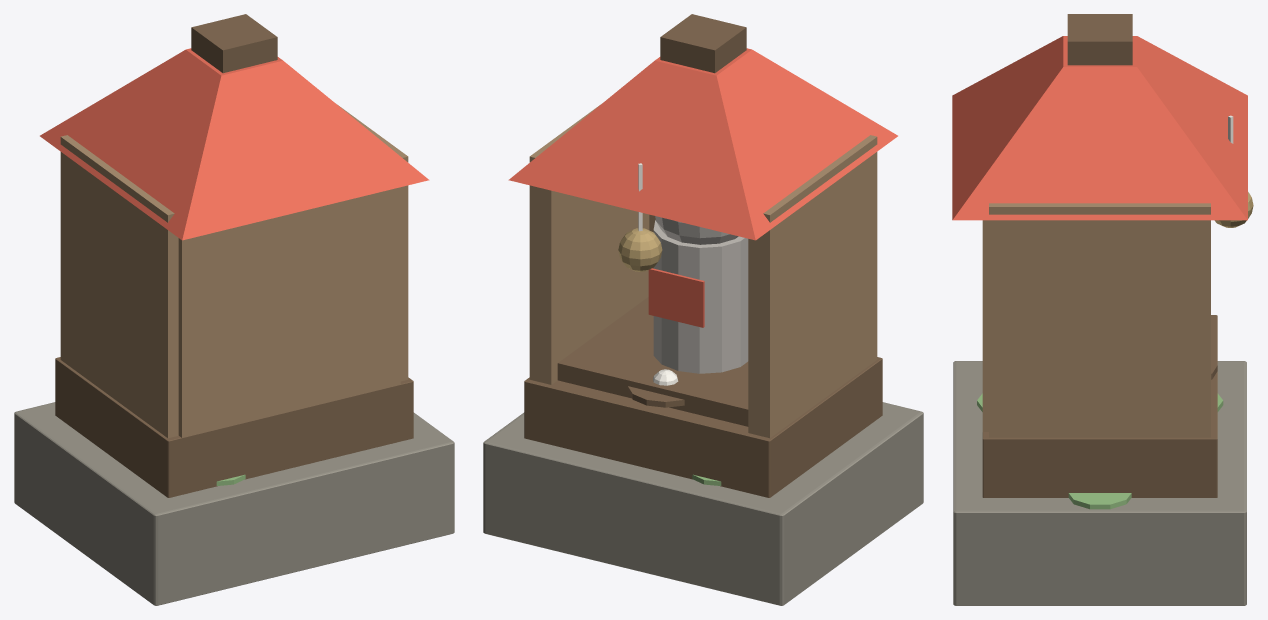
The model's file is hokora_small_shrine.glb.
3 views of the same model, side by side, from view 1: azimuth 30°, elevation 25°; view 2: azimuth 150°, elevation 25°; view 3: azimuth 270°, elevation 25° (orthographic). The views are drawn at different scales.
Parts seen in each view (by area): view 1: hokora_small_shrine; view 2: hokora_small_shrine; view 3: hokora_small_shrine.
Boxes of the visible parts, box(x1,y1,x2,y2) form: hokora_small_shrine: box(14, 14, 454, 605); hokora_small_shrine: box(483, 14, 923, 605); hokora_small_shrine: box(952, 14, 1253, 605).
Bounding box in the file's own units: 0.55 × 0.85 × 0.4613.
